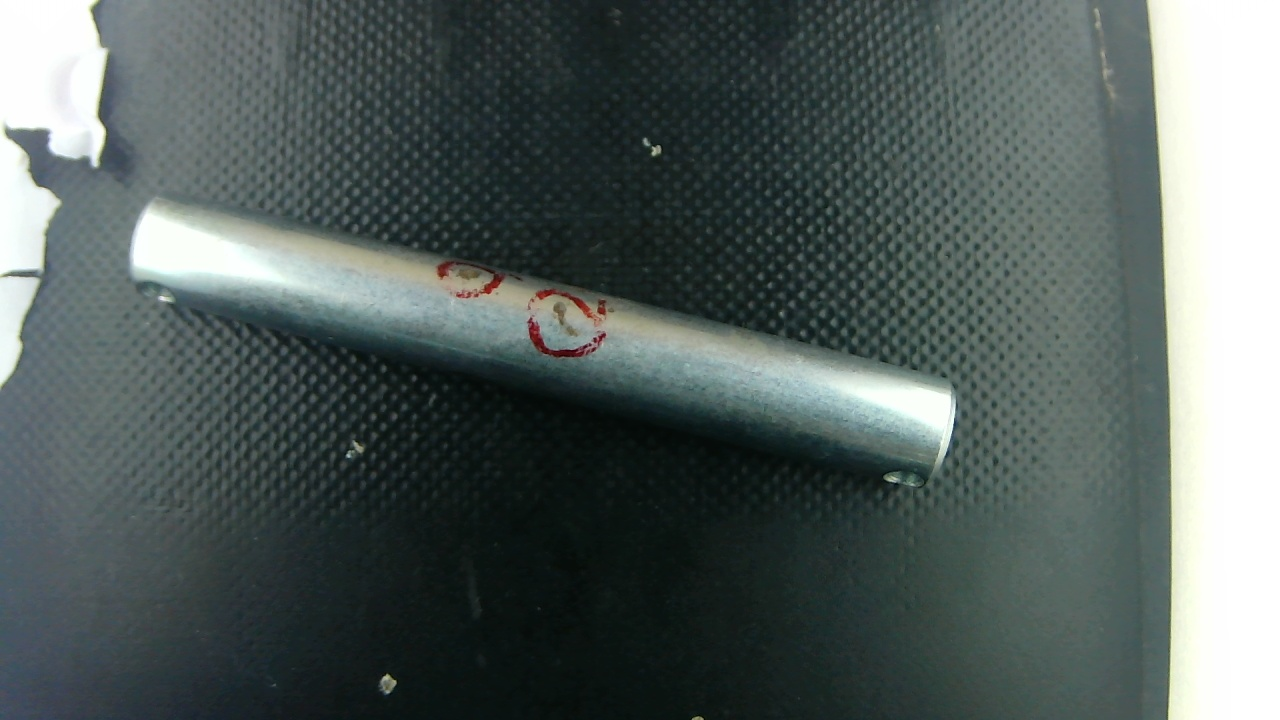rust_pin: (545, 298, 579, 341)
